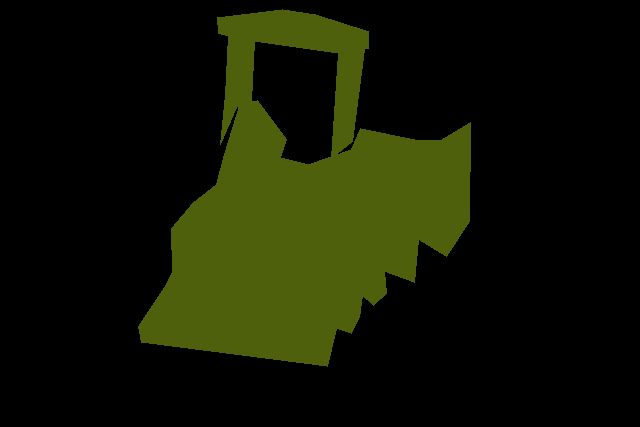Train: (138, 9, 471, 366)
